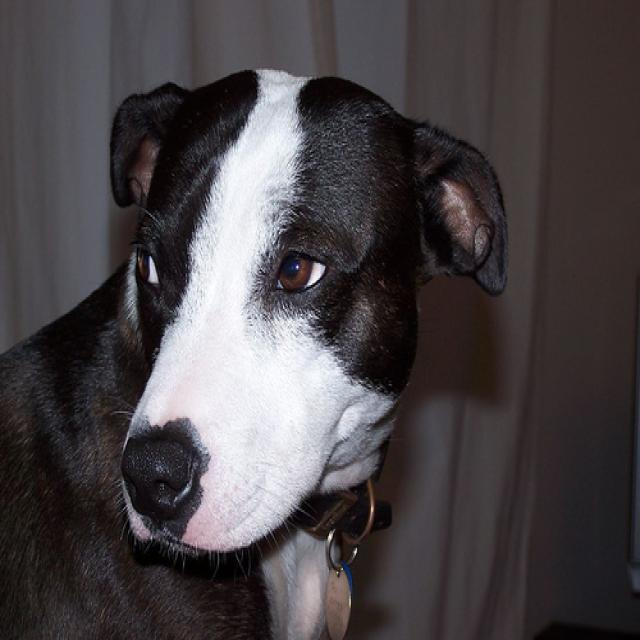dog-staffordshire_bull_terrier: (1, 55, 511, 637)
